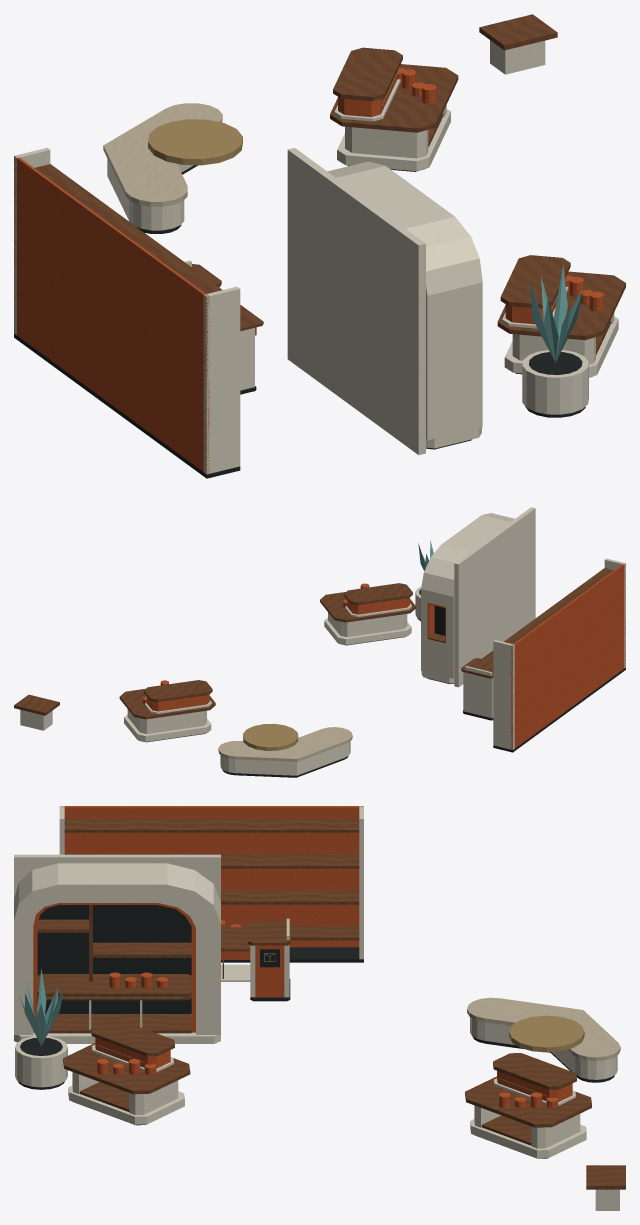
The model's file is SHOP_D09_S72_F132__fitout.glb.
The picture shows the model from 3 angles, top to bottom: view 1: azimuth 30°, elevation 25°; view 2: azimuth 150°, elevation 25°; view 3: azimuth 270°, elevation 25°; orthographic projection. The views are drawn at different scales.
Visible parts, largest first — view 1: SHOP_D09_S72_F132__fitout__ivory_enamel, SHOP_D09_S72_F132__fitout__retail_terracotta_enamel, SHOP_D09_S72_F132__fitout__warm_walnut, SHOP_D09_S72_F132__fitout__oatmeal_weave, SHOP_D09_S72_F132__fitout__champagne_metal, SHOP_D09_S72_F132__fitout__dark_rubber, SHOP_D09_S72_F132__fitout__quiet_teal; view 2: SHOP_D09_S72_F132__fitout__ivory_enamel, SHOP_D09_S72_F132__fitout__retail_terracotta_enamel, SHOP_D09_S72_F132__fitout__warm_walnut, SHOP_D09_S72_F132__fitout__oatmeal_weave, SHOP_D09_S72_F132__fitout__dark_rubber, SHOP_D09_S72_F132__fitout__champagne_metal; view 3: SHOP_D09_S72_F132__fitout__warm_walnut, SHOP_D09_S72_F132__fitout__ivory_enamel, SHOP_D09_S72_F132__fitout__retail_terracotta_enamel, SHOP_D09_S72_F132__fitout__dark_rubber, SHOP_D09_S72_F132__fitout__oatmeal_weave, SHOP_D09_S72_F132__fitout__champagne_metal, SHOP_D09_S72_F132__fitout__quiet_teal.
Boxes of the visible parts, x1,y1,x2,y2 form: SHOP_D09_S72_F132__fitout__ivory_enamel: [14, 40, 618, 474]; SHOP_D09_S72_F132__fitout__retail_terracotta_enamel: [14, 67, 604, 473]; SHOP_D09_S72_F132__fitout__warm_walnut: [34, 14, 625, 354]; SHOP_D09_S72_F132__fitout__oatmeal_weave: [103, 103, 222, 206]; SHOP_D09_S72_F132__fitout__champagne_metal: [148, 72, 565, 309]; SHOP_D09_S72_F132__fitout__dark_rubber: [14, 165, 592, 478]; SHOP_D09_S72_F132__fitout__quiet_teal: [528, 264, 583, 362]; SHOP_D09_S72_F132__fitout__ivory_enamel: [20, 507, 625, 775]; SHOP_D09_S72_F132__fitout__retail_terracotta_enamel: [143, 563, 625, 749]; SHOP_D09_S72_F132__fitout__warm_walnut: [14, 568, 613, 719]; SHOP_D09_S72_F132__fitout__oatmeal_weave: [218, 727, 352, 761]; SHOP_D09_S72_F132__fitout__dark_rubber: [139, 589, 625, 777]; SHOP_D09_S72_F132__fitout__champagne_metal: [243, 723, 298, 750]; SHOP_D09_S72_F132__fitout__warm_walnut: [37, 818, 625, 1189]; SHOP_D09_S72_F132__fitout__ivory_enamel: [14, 806, 619, 1210]; SHOP_D09_S72_F132__fitout__retail_terracotta_enamel: [33, 806, 572, 1108]; SHOP_D09_S72_F132__fitout__dark_rubber: [18, 905, 614, 1158]; SHOP_D09_S72_F132__fitout__oatmeal_weave: [467, 997, 620, 1061]; SHOP_D09_S72_F132__fitout__champagne_metal: [46, 953, 584, 1096]; SHOP_D09_S72_F132__fitout__quiet_teal: [19, 968, 64, 1045].
Size of the model in its own units: 10.25 by 3 by 10.05.
7 materials, 6 textured.
